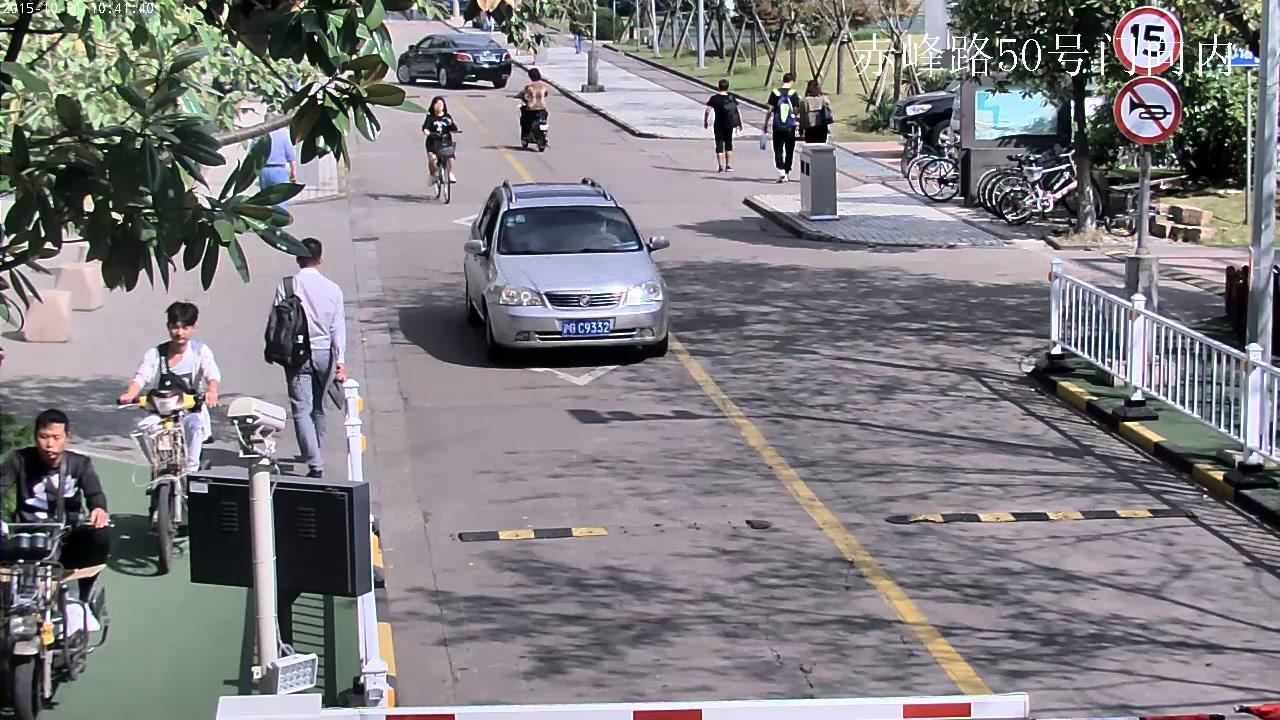person: (0, 408, 112, 720), (116, 302, 220, 574), (0, 408, 112, 633), (263, 236, 346, 477), (115, 301, 220, 482), (419, 96, 461, 203), (760, 72, 800, 182), (420, 96, 461, 187), (703, 79, 742, 174), (256, 126, 295, 209), (515, 66, 549, 153), (515, 67, 549, 140), (800, 80, 833, 143)
